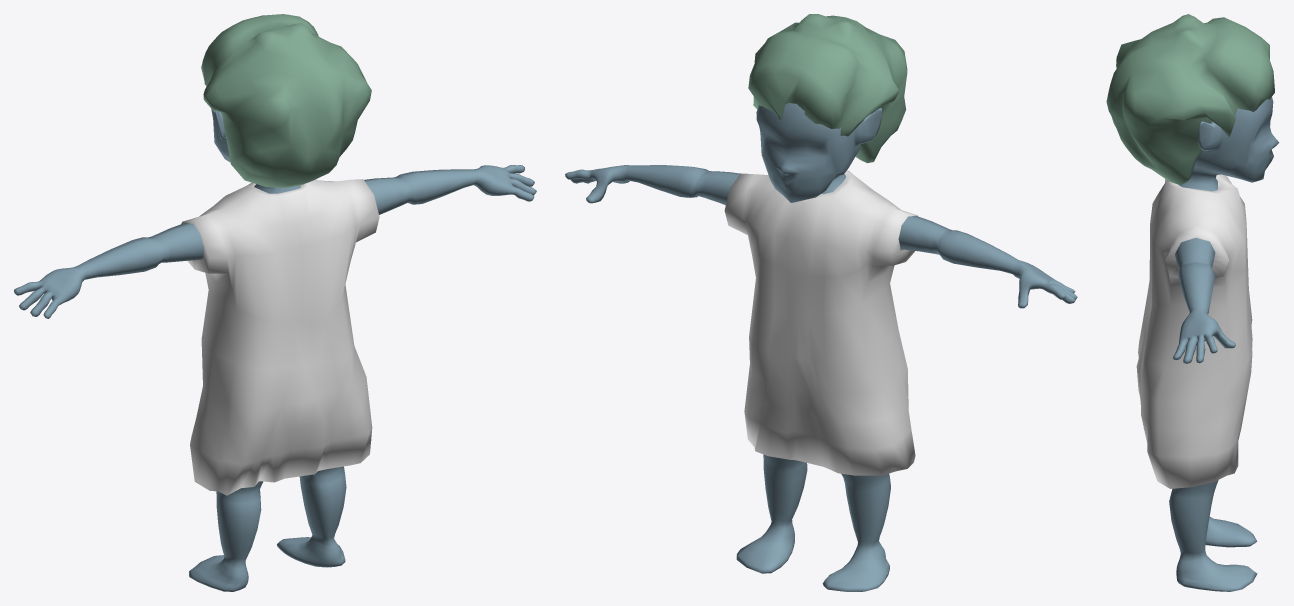
File: MainCharSculpting08_Tpose_low.fbx
3 views of the same model, side by side, from view 1: azimuth 30°, elevation 25°; view 2: azimuth 150°, elevation 25°; view 3: azimuth 270°, elevation 25° (orthographic). The views are drawn at different scales.
Parts seen in each view (by area): view 1: Dress_low, Hair_low, Body_low; view 2: Dress_low, Body_low, Hair_low; view 3: Dress_low, Hair_low, Body_low.
Part boxes in pixels (left/top/right/bottom): Dress_low: left=181, top=179, right=379, bottom=495; Hair_low: left=201, top=14, right=371, bottom=187; Body_low: left=14, top=109, right=536, bottom=591; Dress_low: left=724, top=170, right=918, bottom=475; Body_low: left=565, top=103, right=1077, bottom=591; Hair_low: left=748, top=14, right=907, bottom=163; Dress_low: left=1136, top=174, right=1252, bottom=488; Hair_low: left=1106, top=14, right=1274, bottom=185; Body_low: left=1169, top=97, right=1279, bottom=591.
Size of the model in its own units: 431 by 440 by 128.
